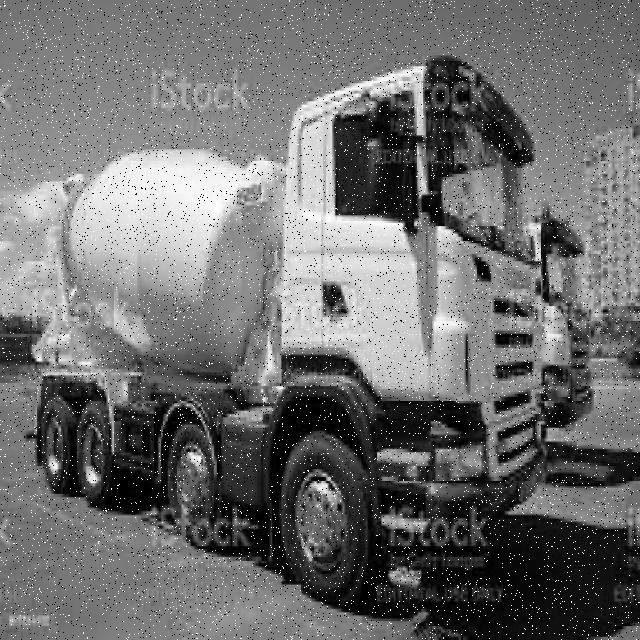Concrete Mixer: (30, 56, 546, 611)
